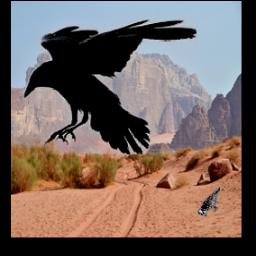Crow: (23, 18, 197, 155)
Woodpecker: (198, 187, 221, 216)
